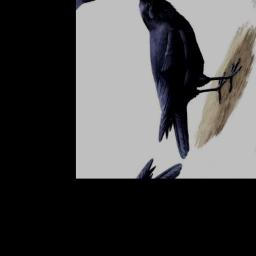Crow: (90, 0, 256, 168)
